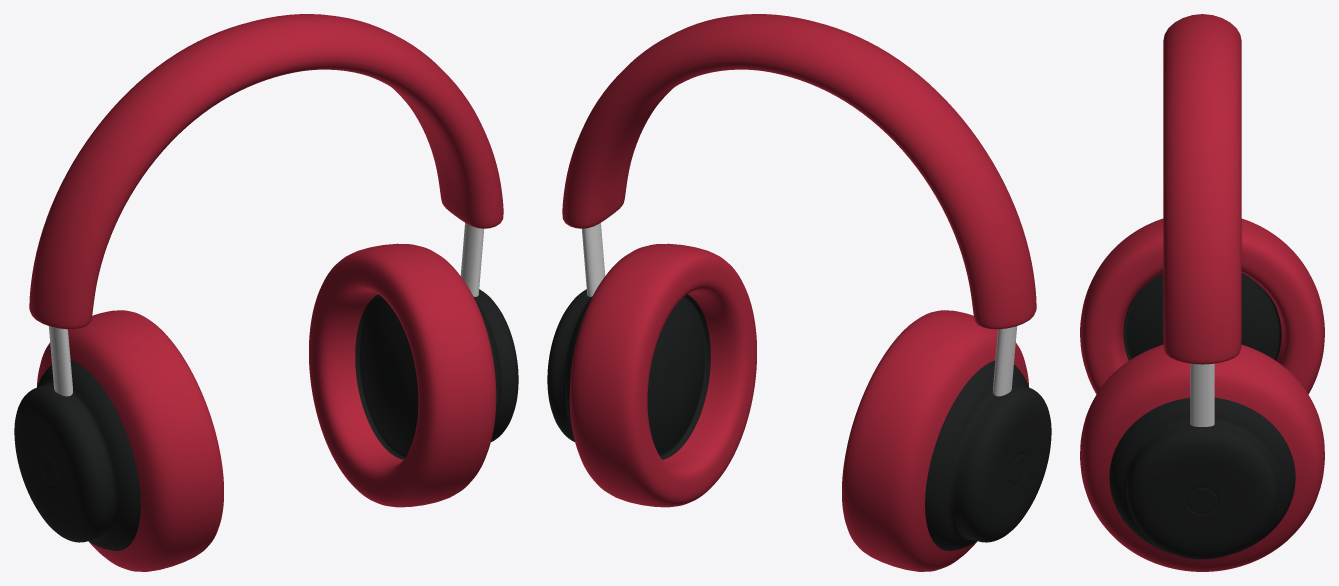
File: headphone.glb
The picture shows the model from 3 angles, left to right: view 1: azimuth 30°, elevation 25°; view 2: azimuth 150°, elevation 25°; view 3: azimuth 270°, elevation 25°; orthographic projection. The views are drawn at different scales.
Parts seen in each view (by area): view 1: headphone line; view 2: headphone line; view 3: headphone line.
Boxes of the visible parts, x1,y1,x2,y2 form: headphone line: (14, 14, 518, 571); headphone line: (547, 14, 1051, 571); headphone line: (1080, 14, 1324, 571).
Bounding box in the file's own units: 1.82 × 1.9 × 0.9016.
